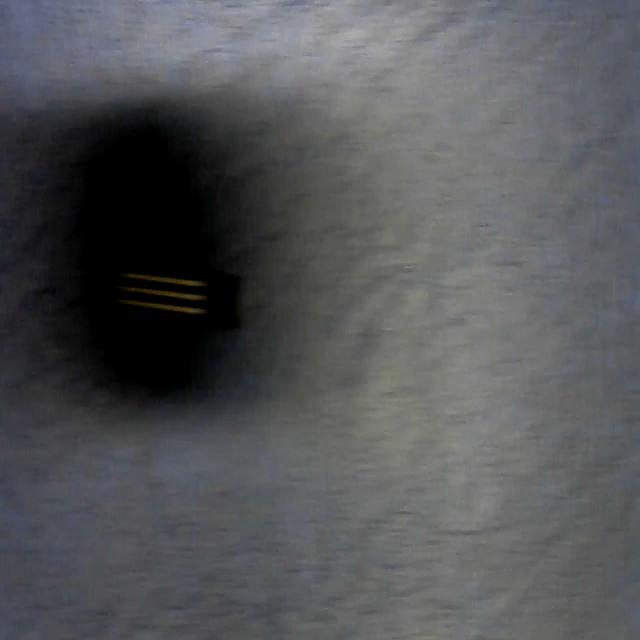BJT: (126, 261, 247, 329)
